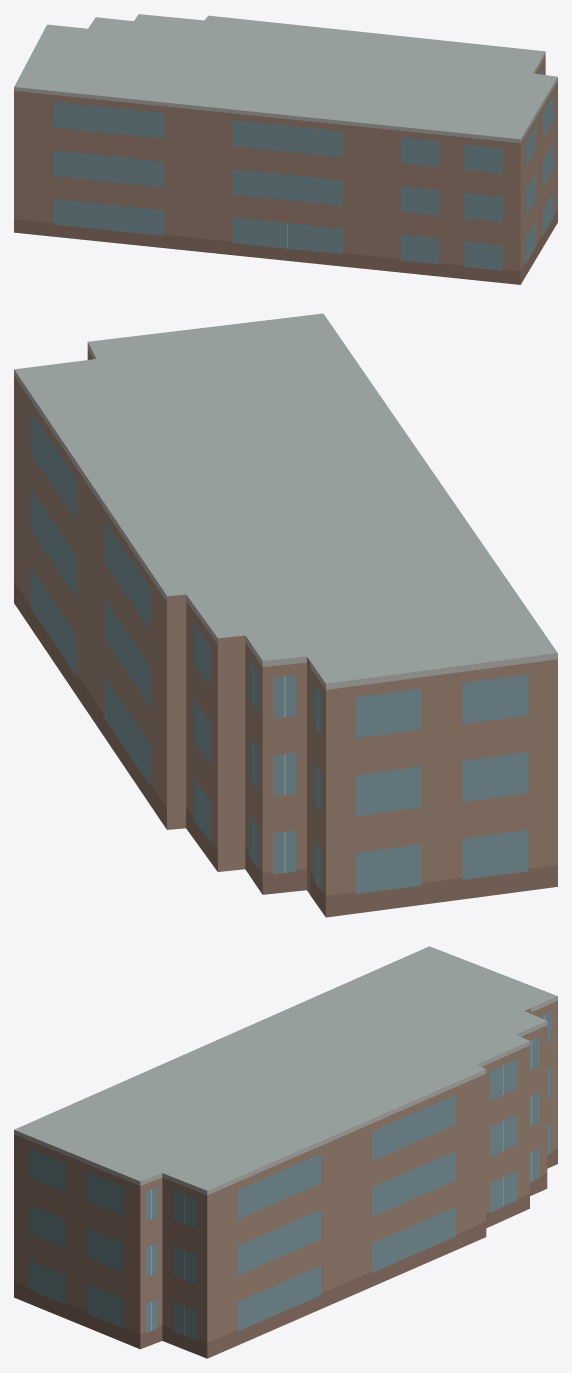
Rendered from survey-upis-32737727.glb.
3 renders of one model, top to bottom at view 1: azimuth 30°, elevation 25°; view 2: azimuth 150°, elevation 25°; view 3: azimuth 270°, elevation 25°, orthographic. The views are drawn at different scales.
Parts seen in each view (by area): view 1: survey-upis-32737727.tmp; view 2: survey-upis-32737727.tmp; view 3: survey-upis-32737727.tmp.
Part boxes in pixels (box(x1,y1,x2,y2)): survey-upis-32737727.tmp: box(14, 14, 557, 284); survey-upis-32737727.tmp: box(14, 313, 557, 917); survey-upis-32737727.tmp: box(14, 946, 557, 1358).
Bounding box in the file's own units: 28.62 × 9.15 × 26.88.
